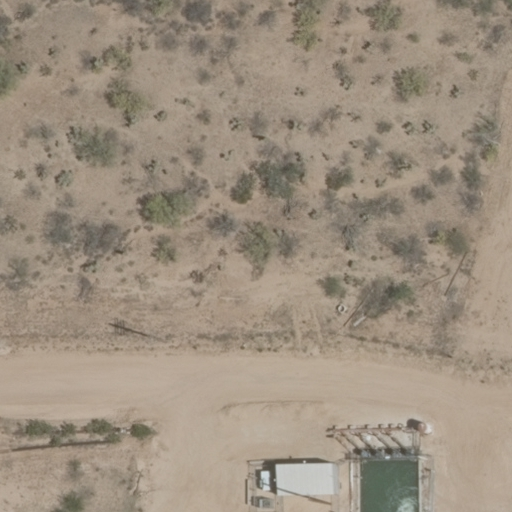DT: (142, 330, 171, 347)
